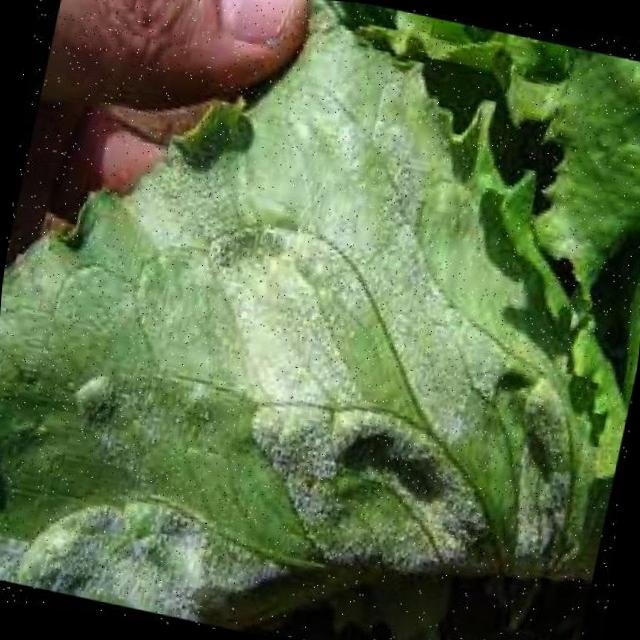Downy_Mildew: (84, 171, 627, 600)
